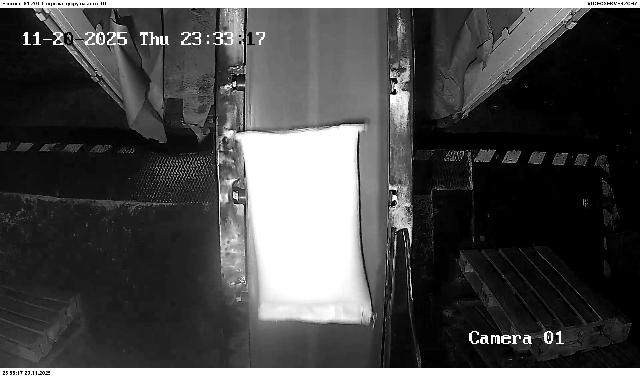bag: (237, 123, 372, 327)
